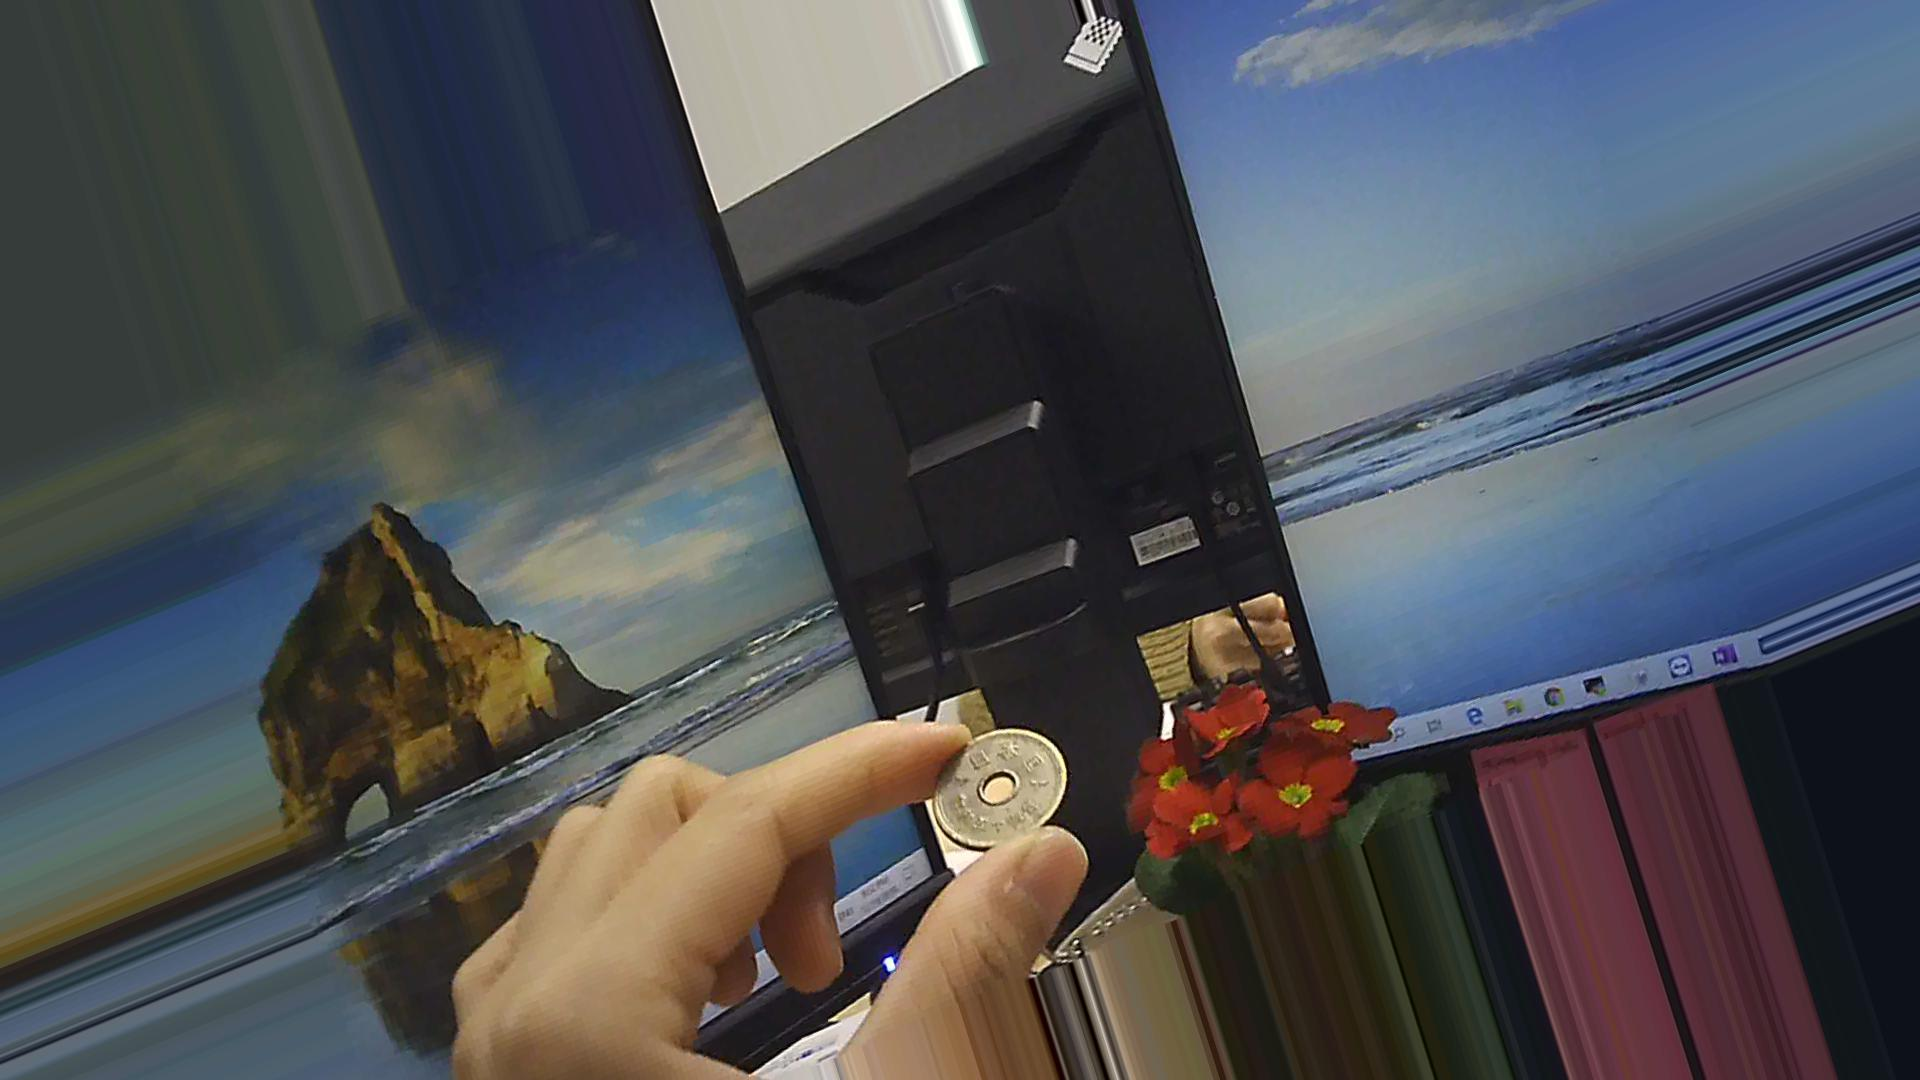5 Yen: (924, 729, 1054, 856)
